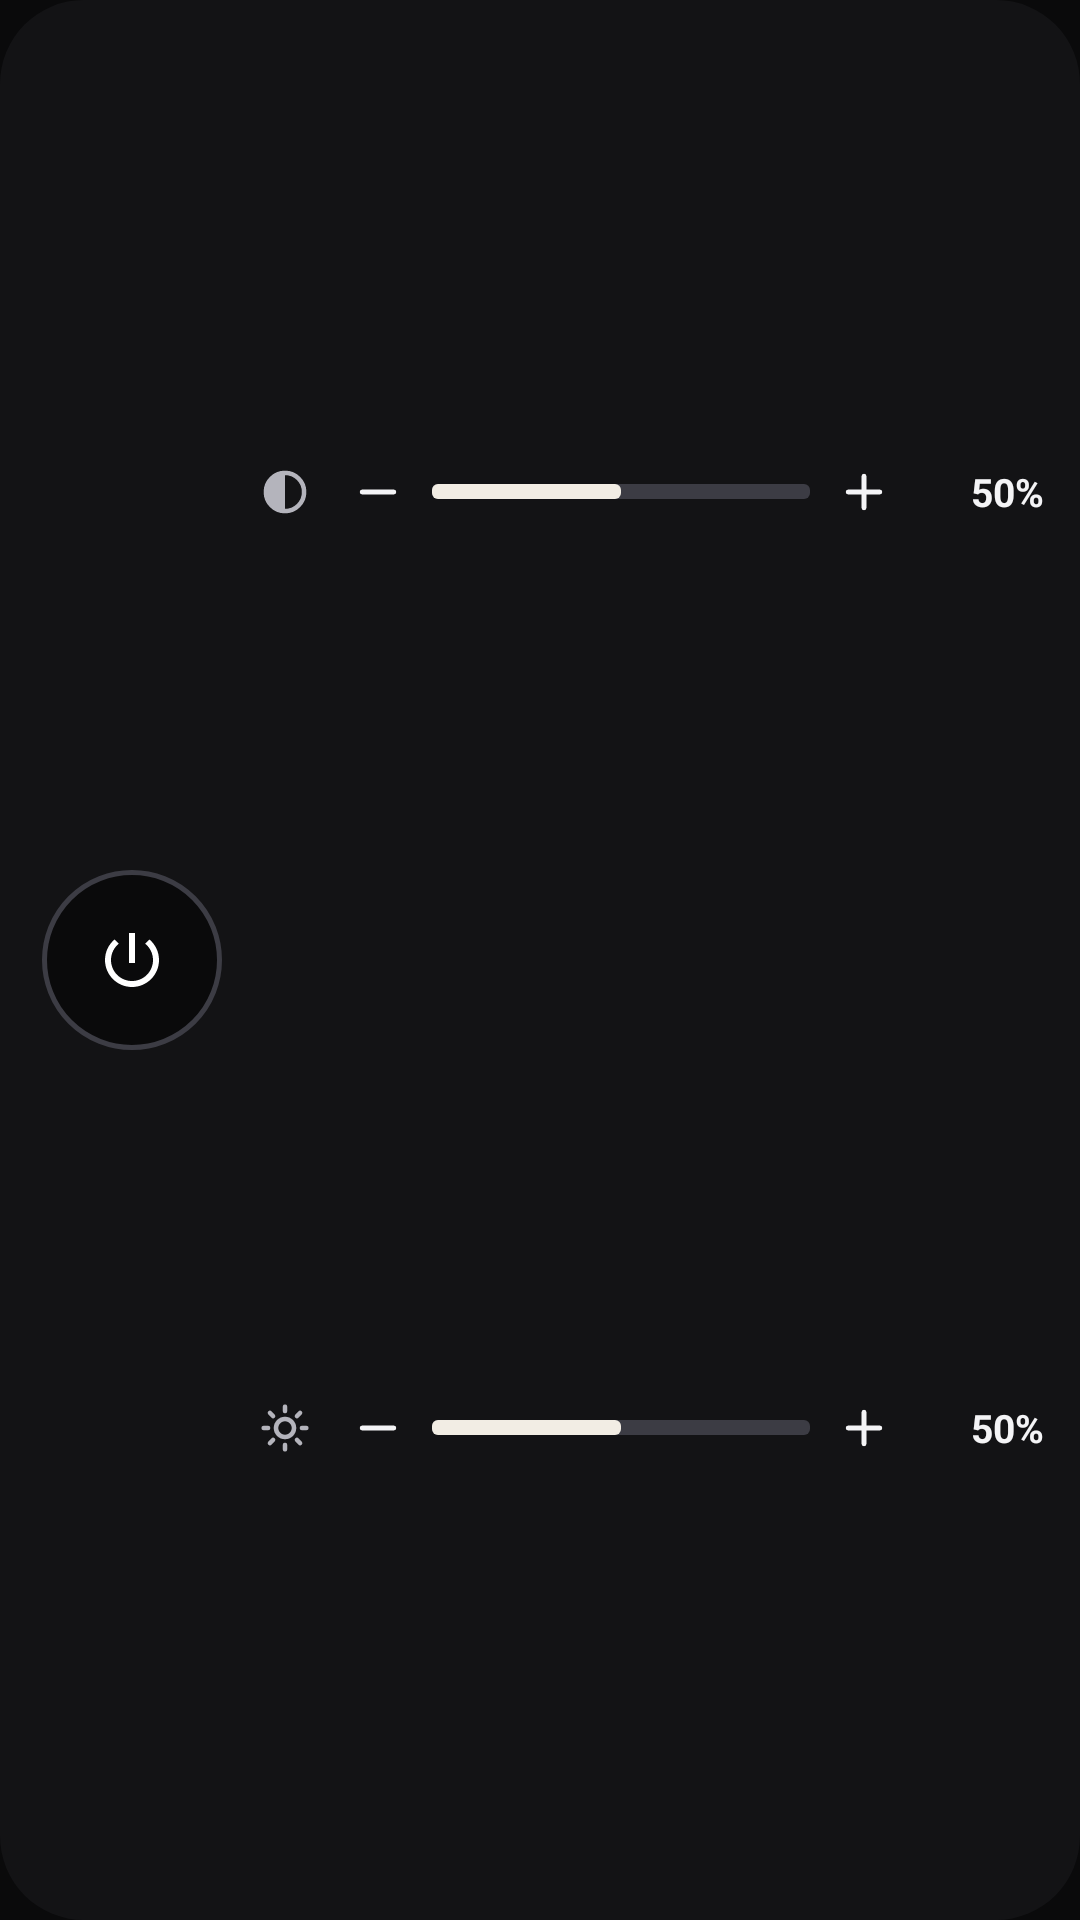

Point at icon controls on the screen. Image size 1080w x 1920h, points as (x,y).
dim: (285,492)
Less dim: (378,492)
Lower brightness: (378,1428)
More dim: (864,492)
Raise brightness: (864,1428)
sun: (285,1428)
Toggle dim: (132,960)
